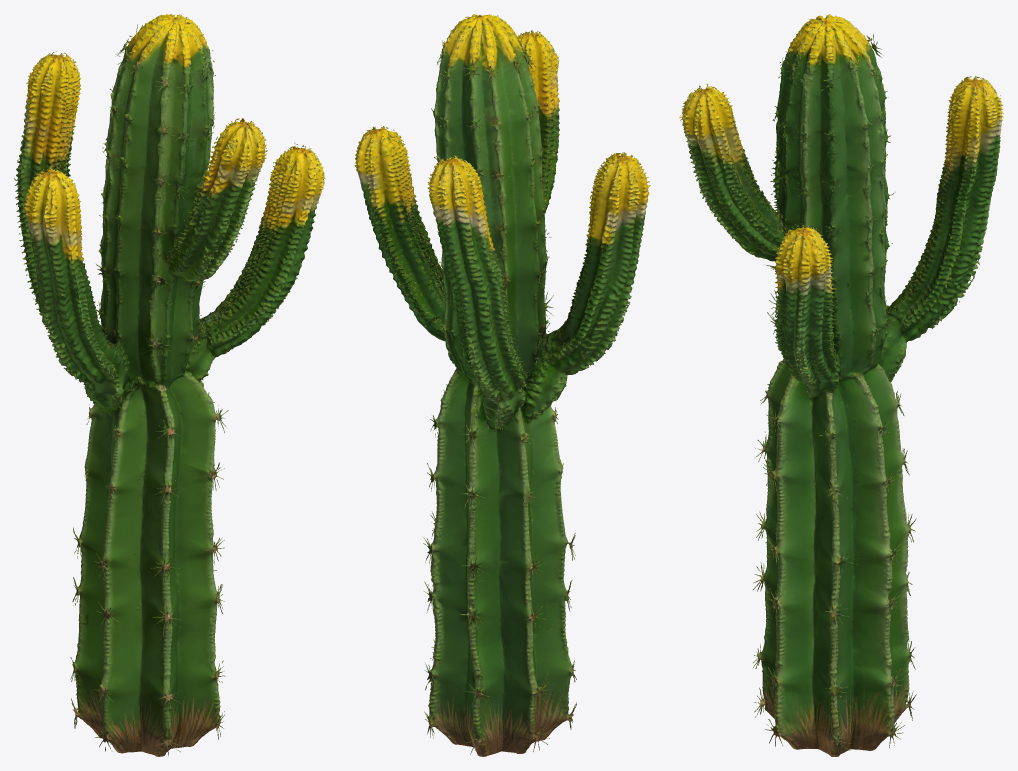
Rendered from cactus_c.glb.
3 views of the same model, side by side, from view 1: azimuth 30°, elevation 25°; view 2: azimuth 150°, elevation 25°; view 3: azimuth 270°, elevation 25° (orthographic). The views are drawn at different scales.
Size of the model in its own units: 0.8483 by 2 by 0.8087.
Materials: 1 (1 with a texture image).
